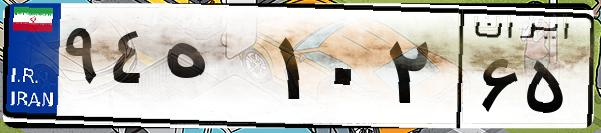0: (330, 28, 385, 110)
1: (270, 28, 330, 110)
2: (385, 28, 445, 110)
4: (110, 28, 158, 98)
5: (525, 38, 570, 115)
6: (475, 38, 525, 113)
9: (57, 26, 110, 100)
ه: (158, 20, 270, 120)
